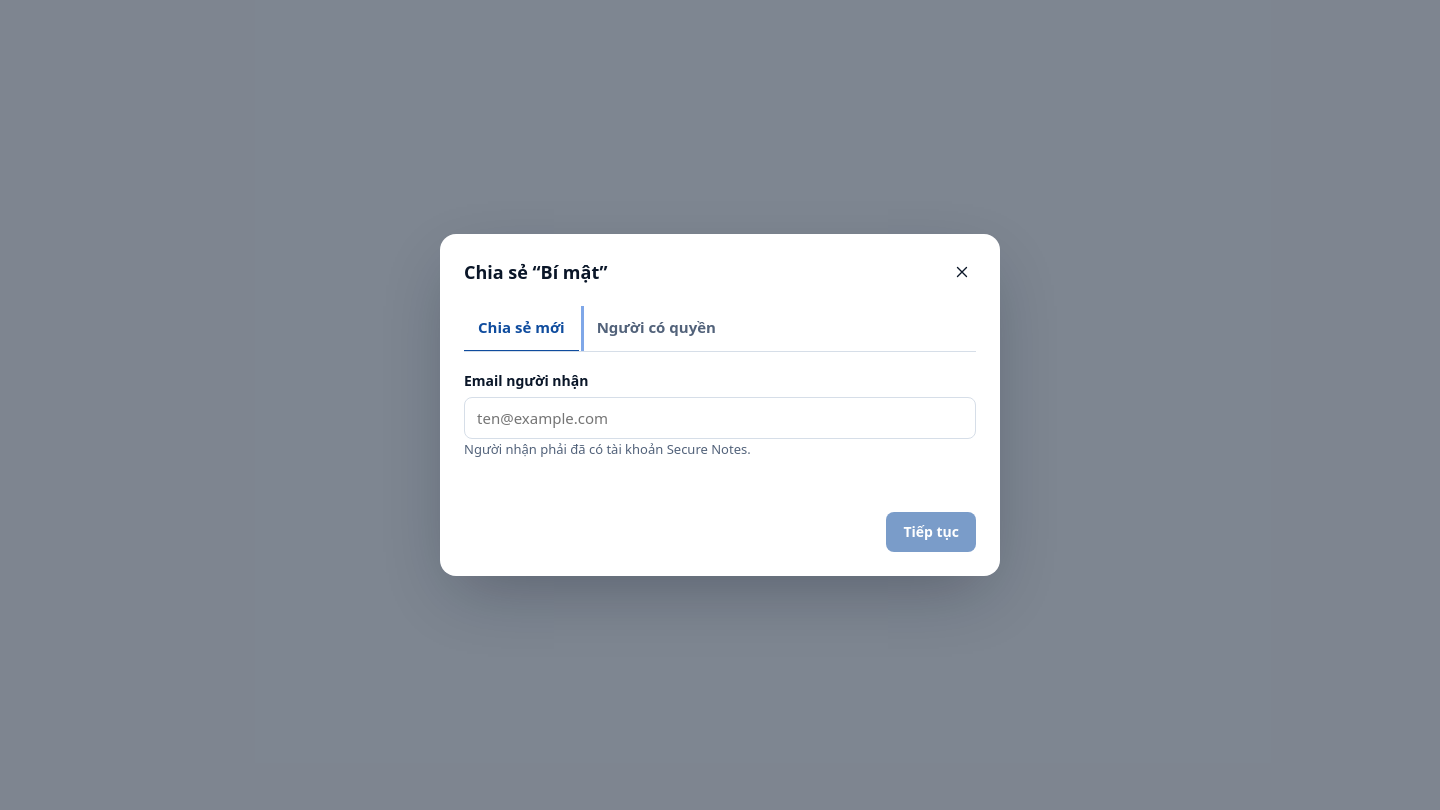
Test: ShareDialog: đối chiếu mã trước khi chia sẻ › không cho chia sẻ cho chính mình, không gọi máy chủ
Type " Alice@Example.com " into the field labelled "Email người nhận" at coordinates (720, 418), box [464, 397, 976, 439]
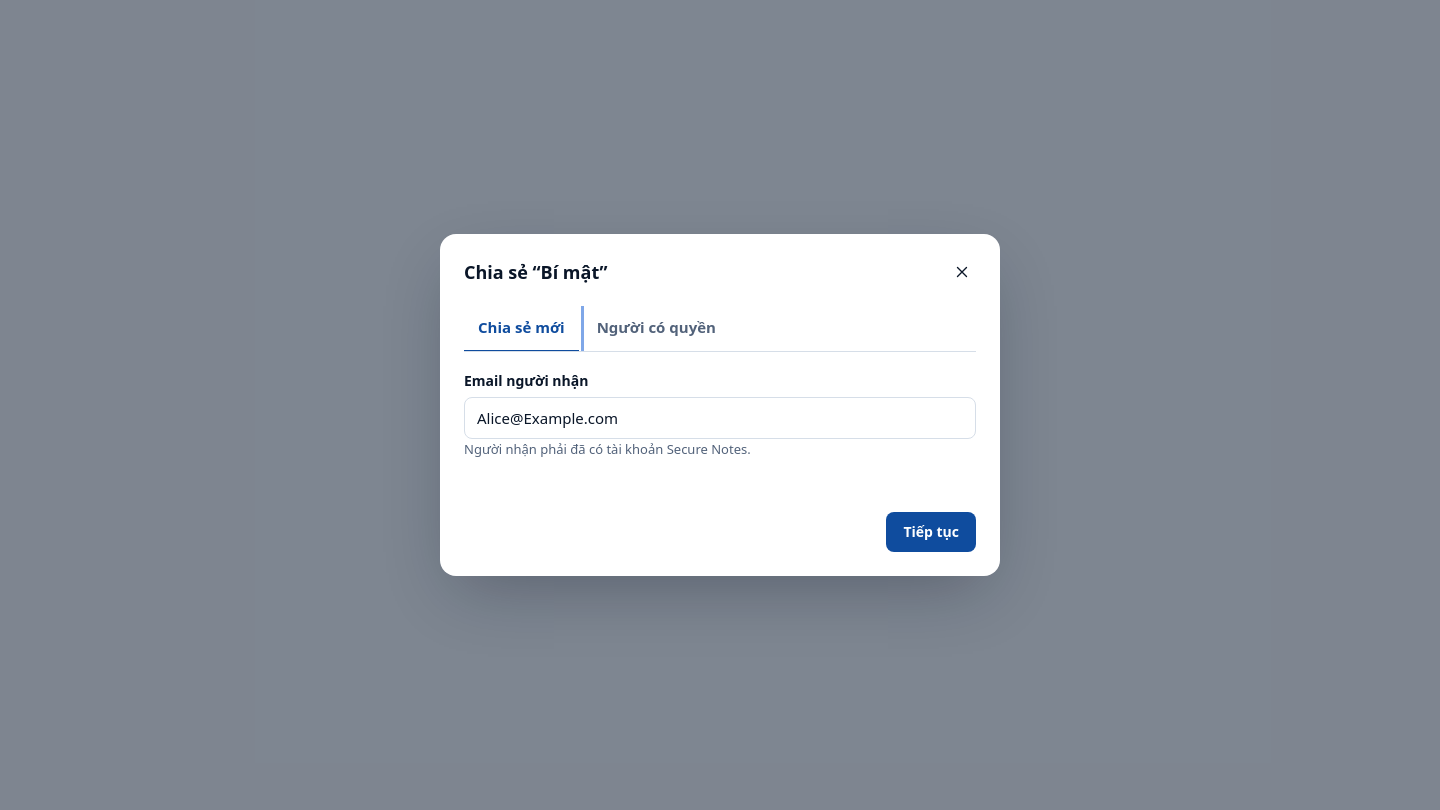
Click the button "Tiếp tục" at coordinates (931, 532), box [886, 512, 976, 552]
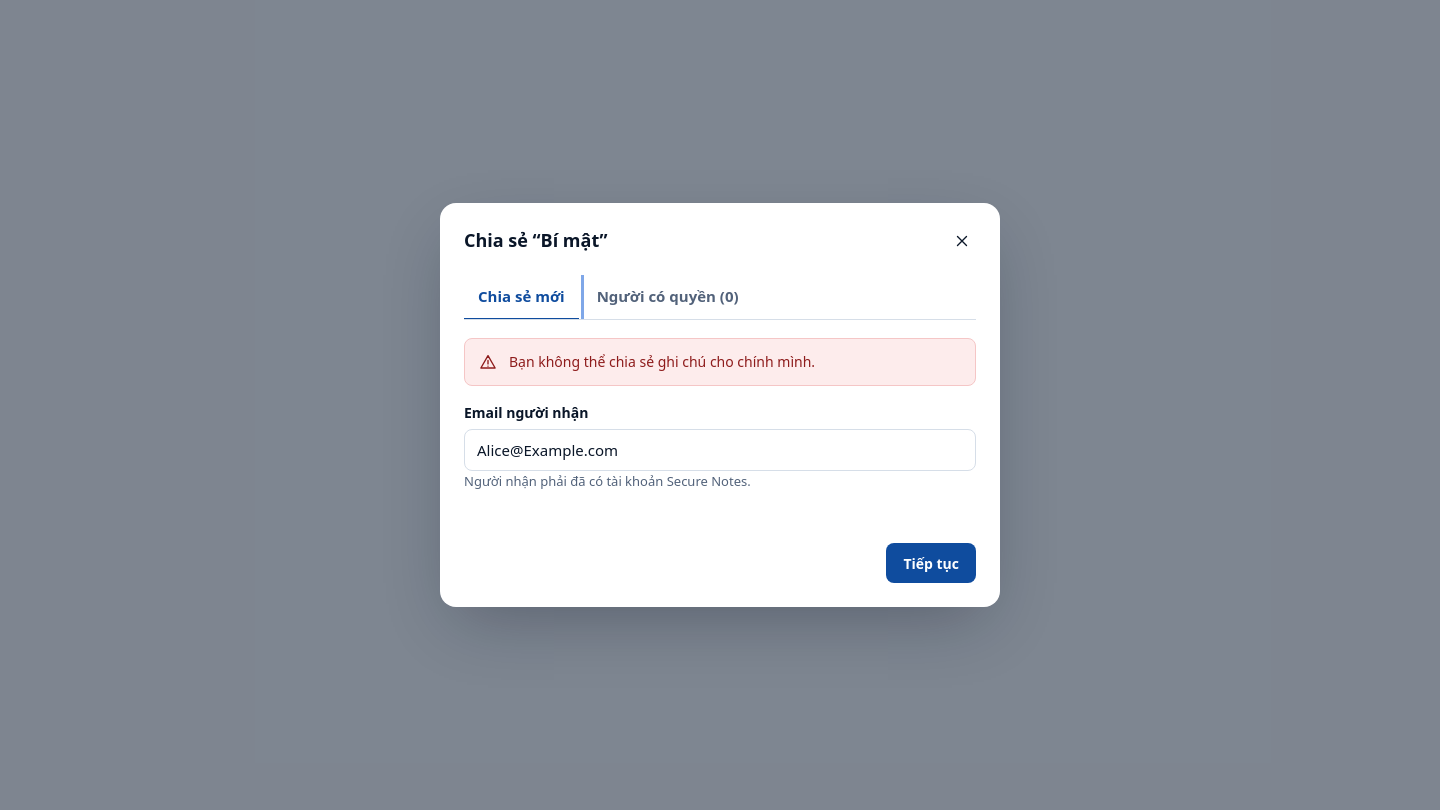
Now the text "Bạn không thể chia sẻ ghi chú cho chính mình." is shown, box [509, 352, 815, 371]
